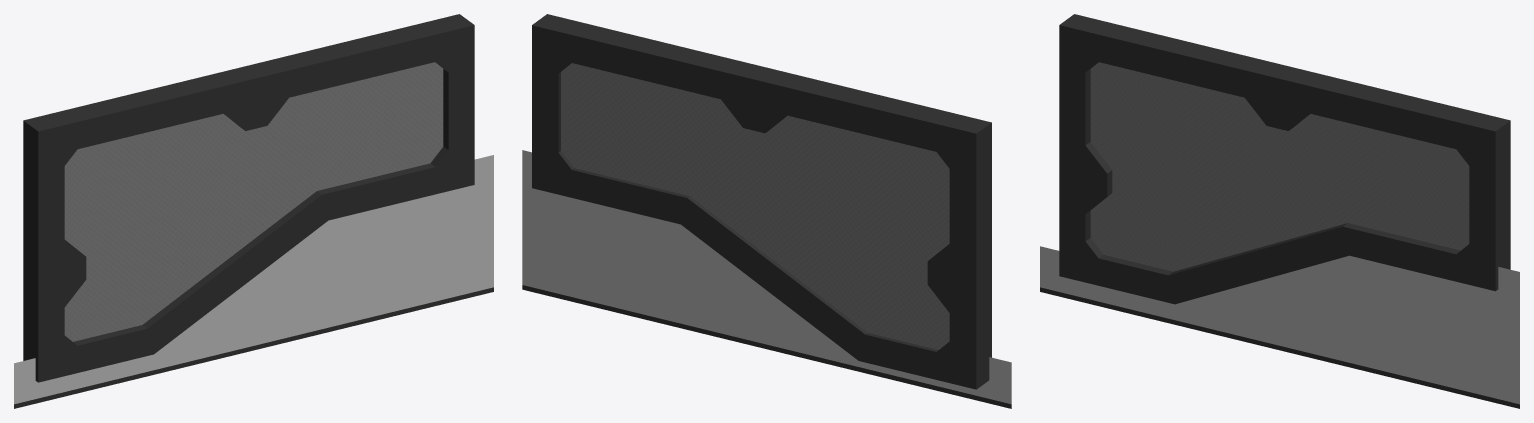
Rendered from BigWindow.fbx.
3 renders of one model, left to right at view 1: azimuth 30°, elevation 25°; view 2: azimuth 150°, elevation 25°; view 3: azimuth 330°, elevation 25°, orthographic.
Visible parts, largest first — view 1: BigWindow; view 2: BigWindow; view 3: BigWindow.
Boxes of the visible parts, x1,y1,x2,y2 form: BigWindow: (14, 14, 493, 408); BigWindow: (522, 14, 1011, 408); BigWindow: (1040, 14, 1519, 408).
Size of the model in its own units: 1100 by 600 by 60.
